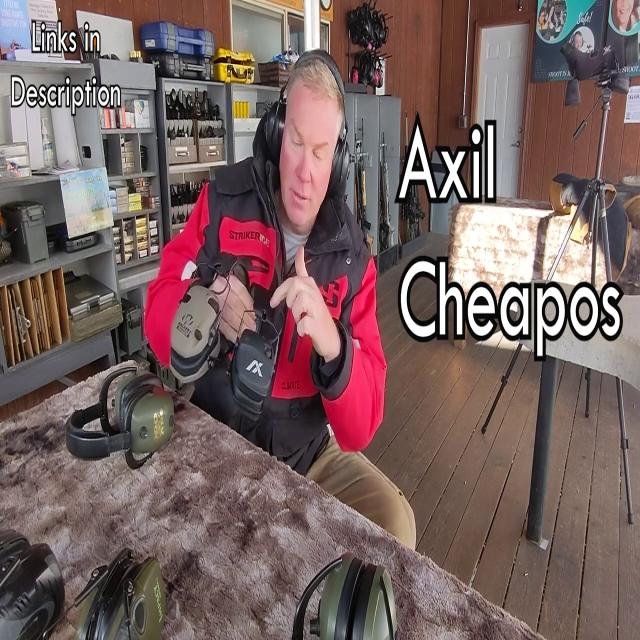earmuff: (167, 279, 218, 363), (236, 321, 279, 402), (327, 134, 355, 206), (262, 92, 290, 159)
